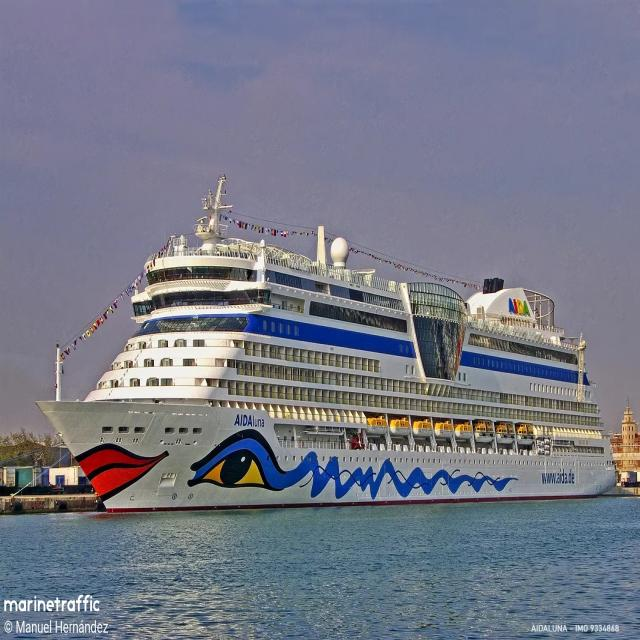Cruise: (37, 175, 616, 512)
